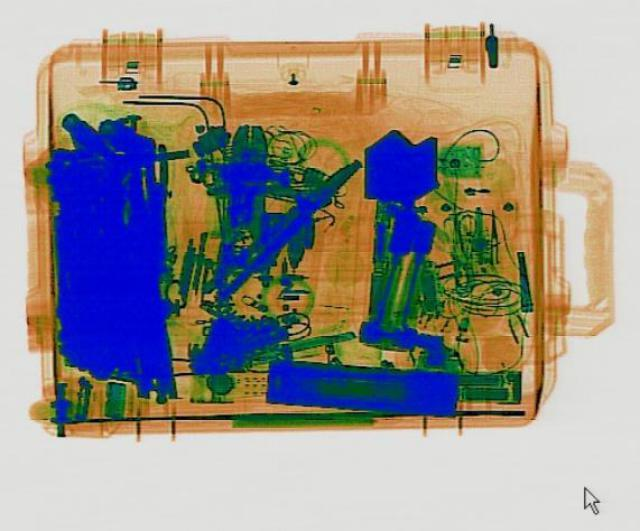Pliers: (195, 149, 365, 302), (214, 122, 270, 301)
